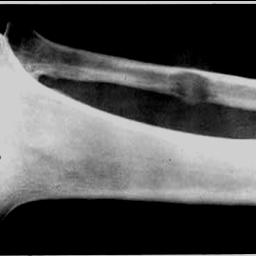cancer: (165, 74, 215, 103)
